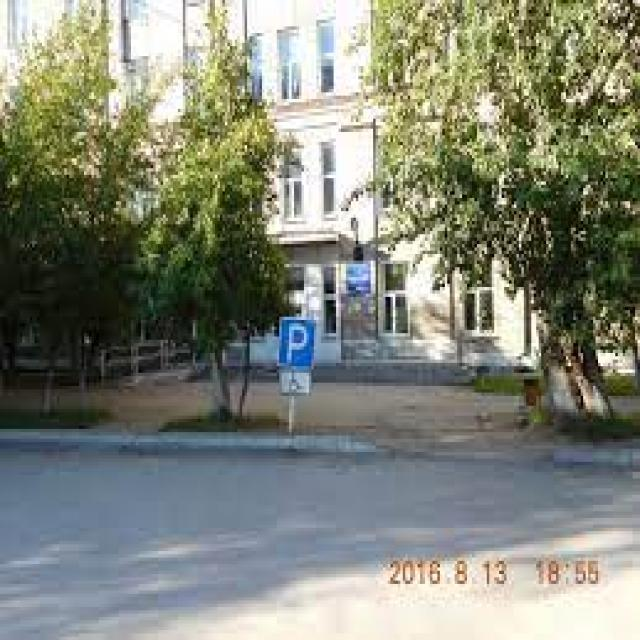parking: (280, 316, 316, 368)
